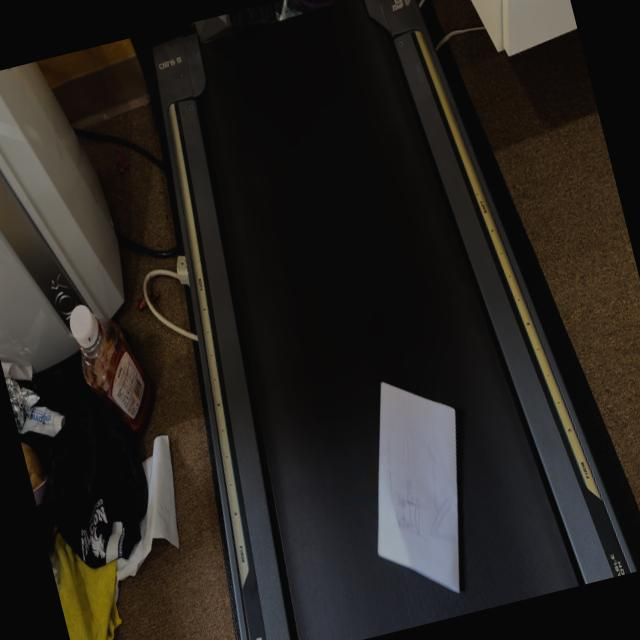Recycle: (318, 317, 508, 621)
